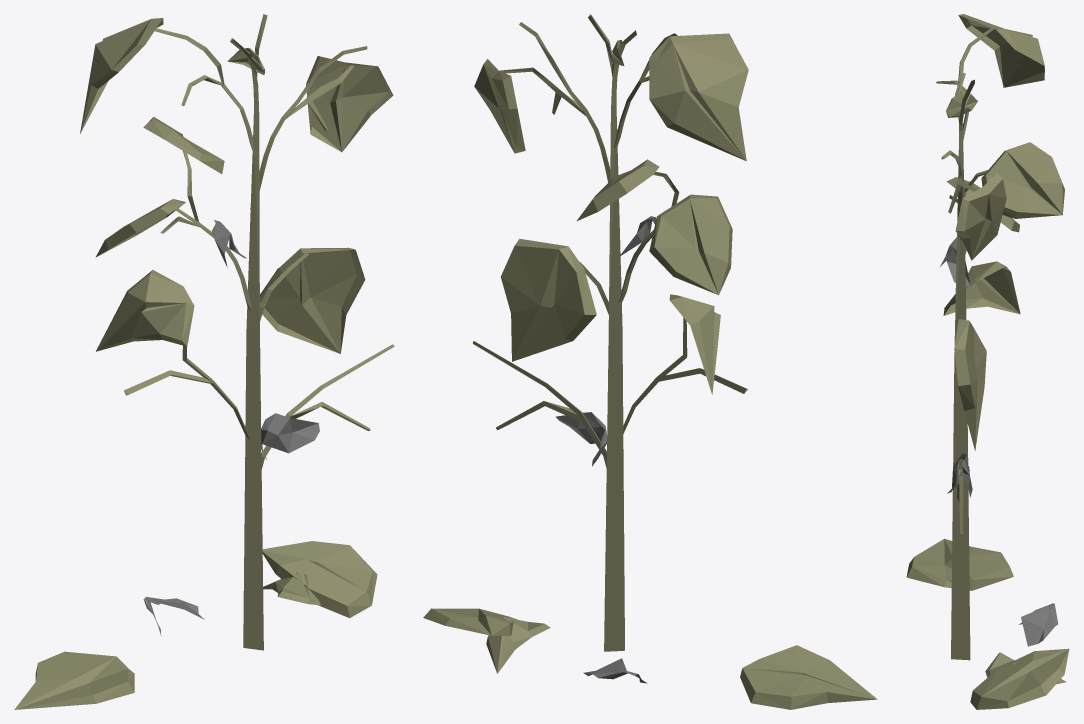
Rendered from Beans_6.fbx.
The picture shows the model from 3 angles, left to right: view 1: azimuth 30°, elevation 25°; view 2: azimuth 150°, elevation 25°; view 3: azimuth 270°, elevation 25°; orthographic projection. The views are drawn at different scales.
Visible parts, largest first — view 1: Beans_7; view 2: Beans_7; view 3: Beans_7.
Part boxes in pixels (left/top/right/bottom): Beans_7: left=14, top=14, right=394, bottom=709; Beans_7: left=423, top=14, right=877, bottom=709; Beans_7: left=906, top=14, right=1069, bottom=709.
Bounding box in the file's own units: 204 × 310 × 77.16.
